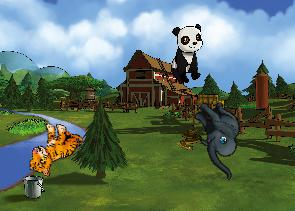elephant: (174, 93, 263, 180)
panda: (171, 24, 203, 84)
tiger: (25, 117, 85, 183)
